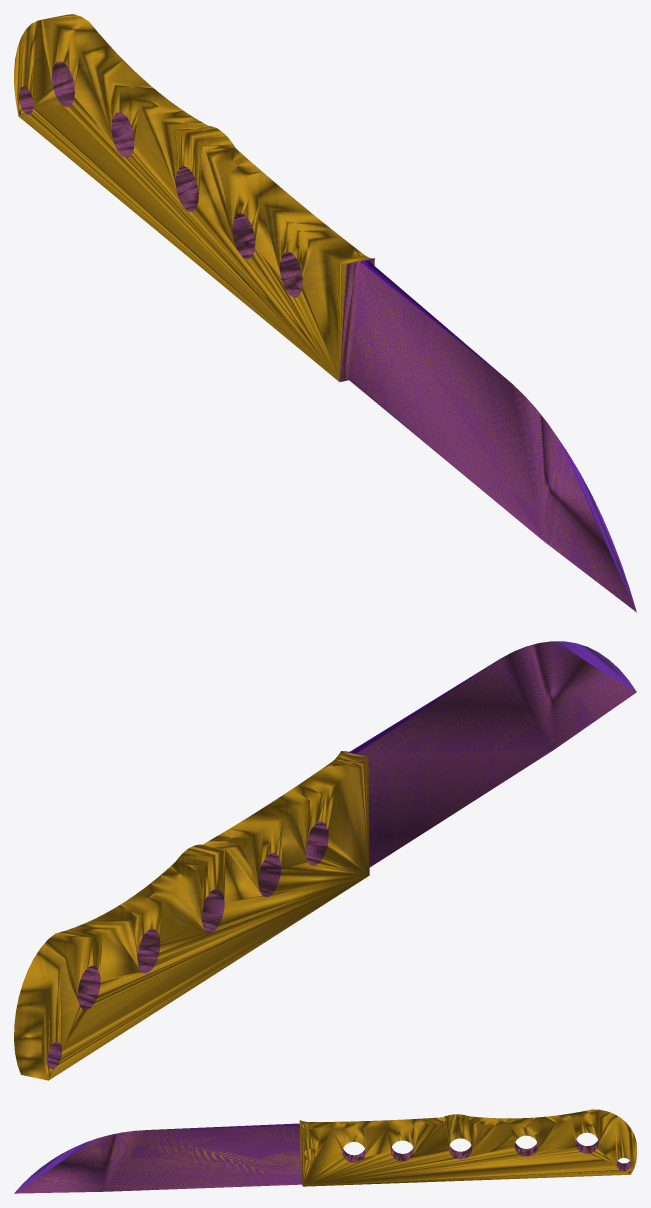
The model's file is model_align.obj.
3 renders of one model, top to bottom at view 1: azimuth 30°, elevation 25°; view 2: azimuth 150°, elevation 25°; view 3: azimuth 270°, elevation 25°, orthographic. The views are drawn at different scales.
Size of the model in its own units: 0.00763 by 0.0328 by 0.2219.
